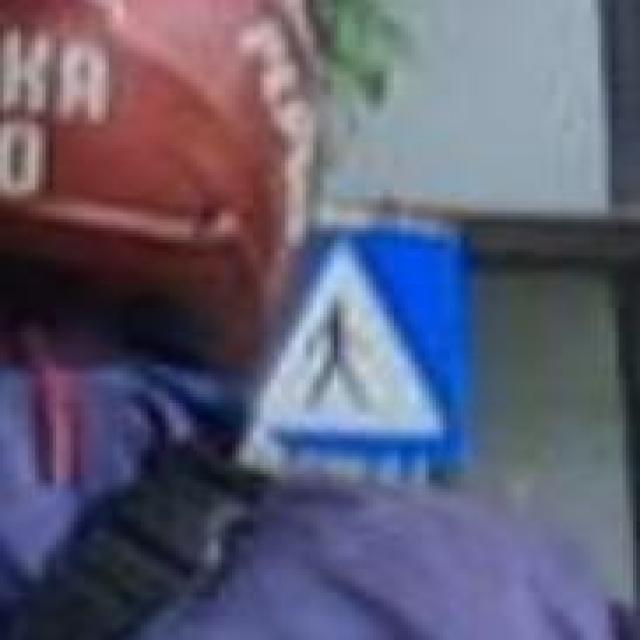traffic sign: (302, 225, 474, 462)
